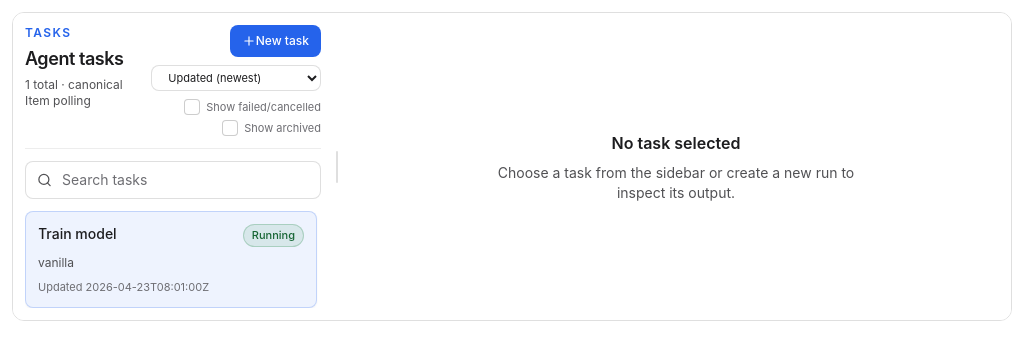
Scenario: TasksPage › renames a Task inline without exposing an unimplemented AI title action
Click the button with aria-label "Task name" at (136, 234), box [38,224,235,243]
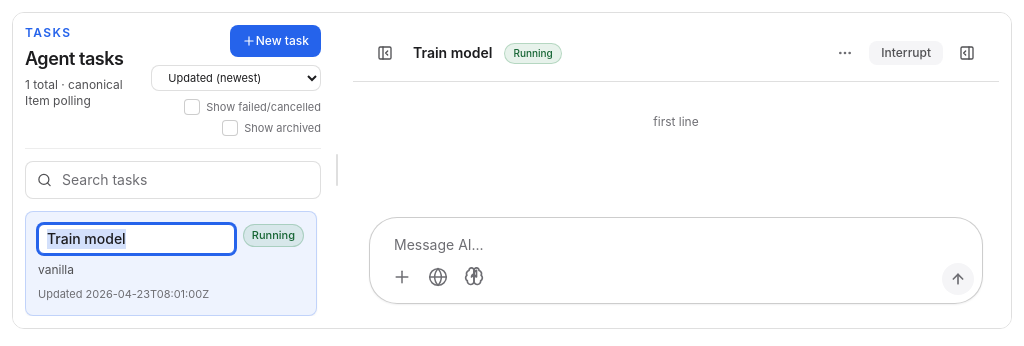
Replace the text in the field named "Task name" with "  Renamed task  " at (136, 239), box [38,224,235,254]
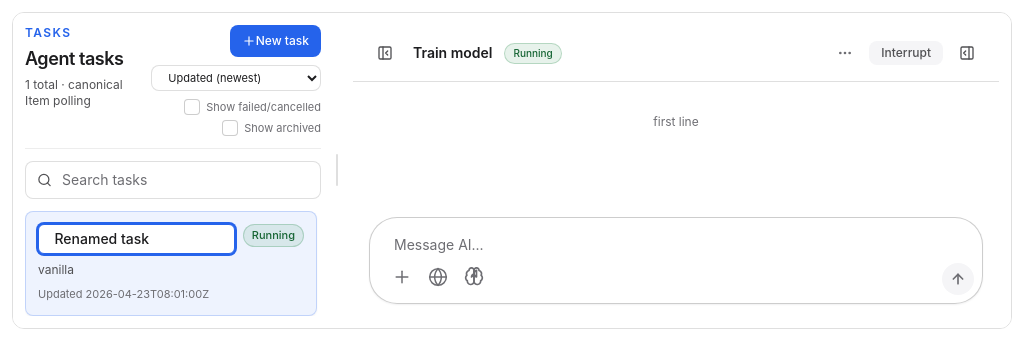
Press Enter in the field named "Task name", box [38,224,235,254]
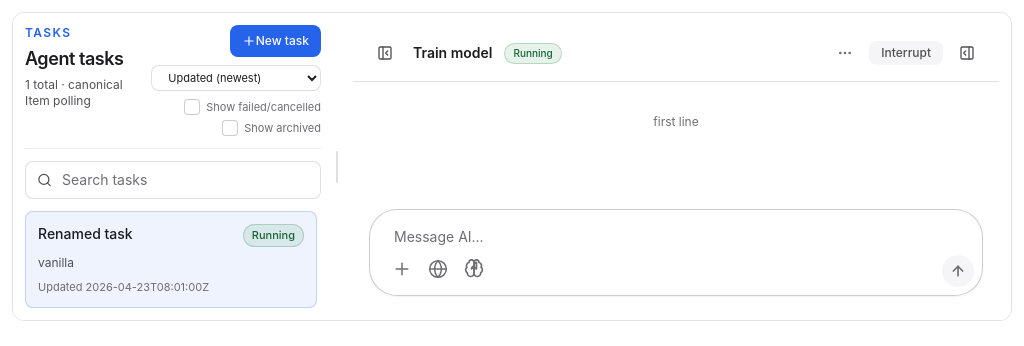
Expected: the button "Renamed task" is shown, [38,224,235,243]
